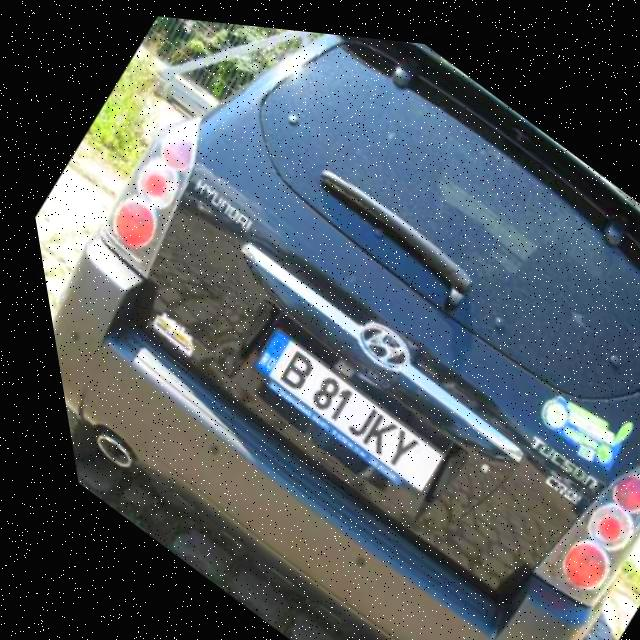license_plate: (227, 318, 440, 497)
